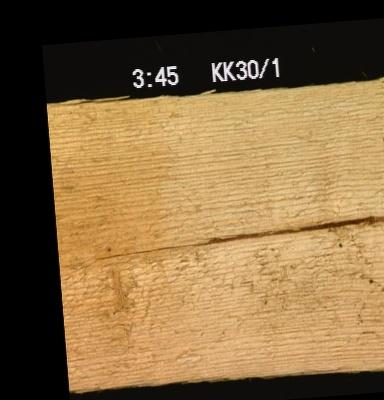split: (90, 242, 203, 256)
